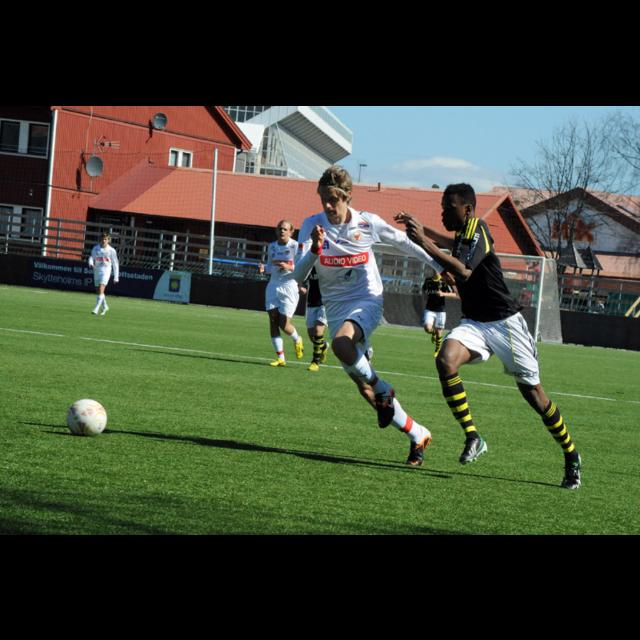Football: (66, 396, 104, 434)
